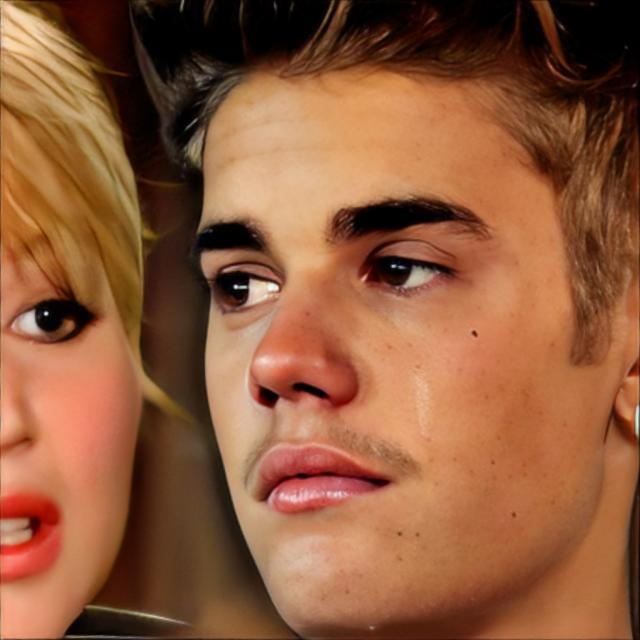sad: (198, 43, 602, 626)
